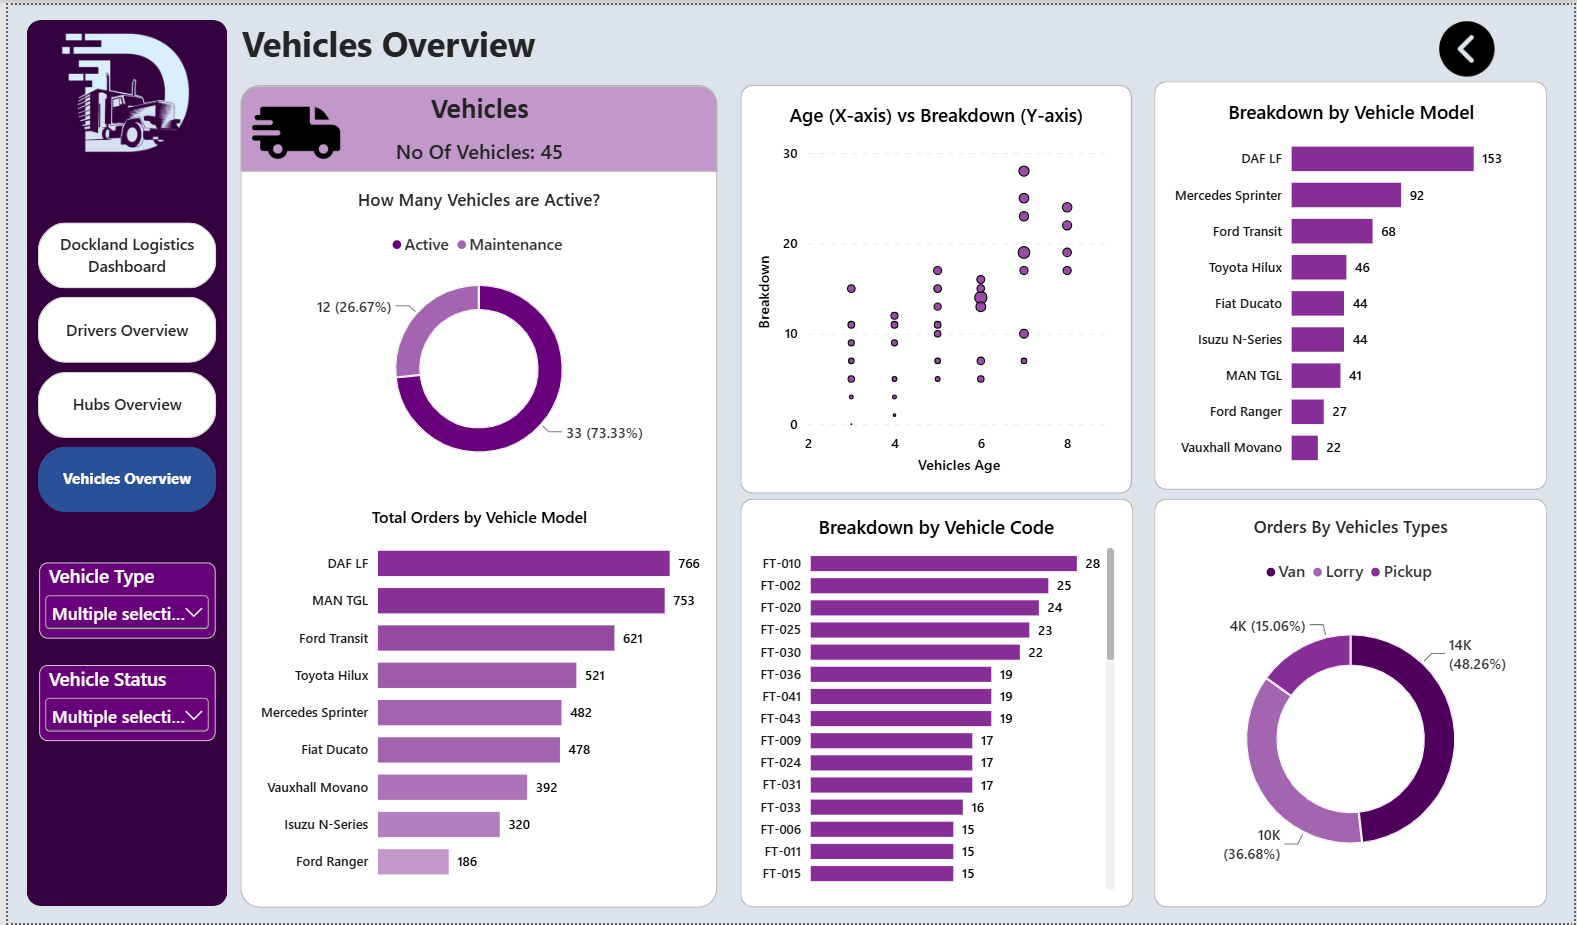

Layout of this report page (visuals, bound fields, positions):
{"tool":"powerbi","page":{"name":"Vehicles Overview","canvas":[1450,850],"ordinal":3},"visuals":[{"type":"shape","box":[17.1,14.3,185.7,820],"z":0},{"type":"textbox","box":[216.7,14.1,473.1,44.9],"z":1000},{"type":"image","box":[17.1,14.3,185.7,144.3],"z":2000},{"type":"cardVisual","fields":{"Data":["Orders.Year Month Title"]},"box":[1084.1,14.5,251.4,40],"z":3000},{"type":"shape","box":[678.4,73.8,362.2,378],"z":4000},{"type":"image","box":[1304.1,14.5,92.2,51.4],"z":5000},{"type":"slicer","fields":{"Values":["Vehicles.Vehicle Type"]},"box":[29,516.4,162.8,70],"z":6000},{"type":"slicer","fields":{"Values":["Vehicles.Vehicle Status"]},"box":[29,611.2,162.8,70],"z":7000},{"type":"shape","box":[214.7,73.8,441.3,761.4],"z":8000},{"type":"shape","box":[214.7,75.1,441.3,79],"z":9000},{"type":"textbox","box":[366.2,79,140,35.7],"z":10000},{"type":"cardVisual","fields":{"Data":["Vehicles.No of vehicles"]},"box":[330.6,114.6,211.4,40],"z":11000},{"type":"donutChart","title":"How Many Vehicles are Active?","fields":{"Category":["Vehicles.Vehicle Status"],"Y":["CountNonNull(Vehicles.Vehicle ID)"]},"box":[214.7,154.1,441.3,299],"z":12000},{"type":"barChart","fields":{"Category":["Vehicles.Vehicle Model"],"Y":["Orders.Total Orders"]},"box":[216,449.2,440,385.9],"z":13000},{"type":"image","box":[218.7,77.7,96.2,81.7],"z":14000},{"type":"shape","box":[1060.4,71.1,363.6,378],"z":15000},{"type":"scatterChart","title":"Age (X-axis) vs Breakdown (Y-axis)","fields":{"X":["Vehicles.Vehicles Age"],"Y":["Vehicles.Breakdown"],"Size":["Sum(Vehicles.Breakdown)1"]},"box":[678.4,75.1,362.2,374.1],"z":16000},{"type":"shape","box":[1060.4,457.1,363.6,378],"z":17000},{"type":"shape","box":[678.4,457.1,363.6,378],"z":18000},{"type":"barChart","title":"Breakdown by Vehicle Code","fields":{"Category":["Vehicles.Vehicle Code"],"Y":["Sum(Vehicles.Breakdown)"]},"box":[678.4,457.1,362.2,378],"z":19000},{"type":"barChart","title":"Breakdown by Vehicle Model","fields":{"Y":["Sum(Vehicles.Breakdown)"],"Category":["Vehicles.Vehicle Model"]},"box":[1061.7,72.4,362.2,378],"z":20000},{"type":"donutChart","title":"Orders By Vehicles Types","fields":{"Y":["Orders.Total Orders"],"Category":["Vehicles.Vehicle Type"]},"box":[1060.4,457.1,363.6,378],"z":21000},{"type":"pageNavigator","box":[27.7,201.5,165,269.6],"z":22000}]}

Visuals, with their boxes in screenshot pixels (x1, y1, x2, y2), scaled from the page's 1450x850 canvas onto the 1577x925 screenshot:
shape: crop(19, 16, 221, 908)
textbox: crop(236, 15, 750, 64)
image: crop(19, 16, 221, 173)
cardVisual - Orders.Year Month Title: crop(1179, 16, 1452, 59)
shape: crop(738, 80, 1132, 492)
image: crop(1418, 16, 1519, 72)
slicer - Vehicles.Vehicle Type: crop(32, 562, 209, 638)
slicer - Vehicles.Vehicle Status: crop(32, 665, 209, 741)
shape: crop(234, 80, 713, 909)
shape: crop(234, 82, 713, 168)
textbox: crop(398, 86, 551, 125)
cardVisual - Vehicles.No of vehicles: crop(360, 125, 589, 168)
"How Many Vehicles are Active?" donutChart: crop(234, 168, 713, 493)
barChart - Vehicles.Vehicle Model x Orders.Total Orders: crop(235, 489, 713, 909)
image: crop(238, 85, 342, 173)
shape: crop(1153, 77, 1549, 489)
"Age (X-axis) vs Breakdown (Y-axis)" scatterChart: crop(738, 82, 1132, 489)
shape: crop(1153, 497, 1549, 909)
shape: crop(738, 497, 1133, 909)
"Breakdown by Vehicle Code" barChart: crop(738, 497, 1132, 909)
"Breakdown by Vehicle Model" barChart: crop(1155, 79, 1549, 490)
"Orders By Vehicles Types" donutChart: crop(1153, 497, 1549, 909)
pageNavigator: crop(30, 219, 210, 513)
